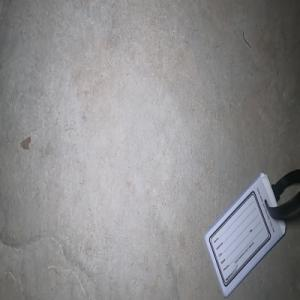LuggageTag: (202, 166, 300, 298)
